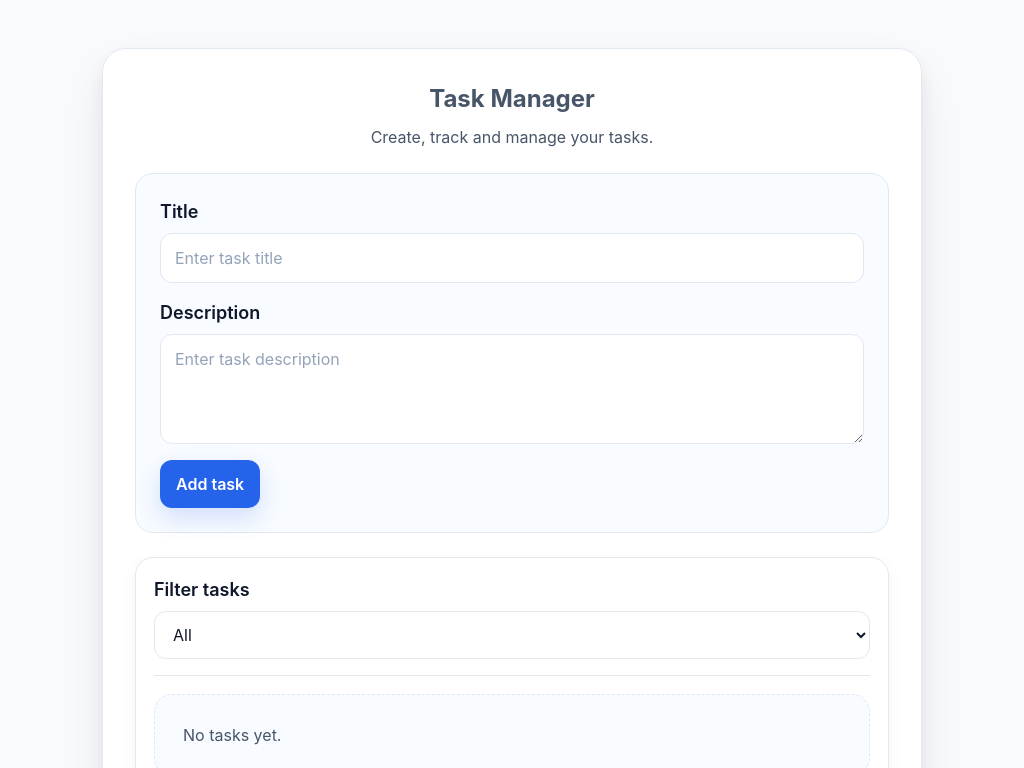
Test: HomePage › handleAdd › ska visa API-felmeddelande om skapande misslyckas
The width and height of the screenshot is (1024, 768).
In the field labelled "Title": (512, 258) [160,233,864,283], type "New task"
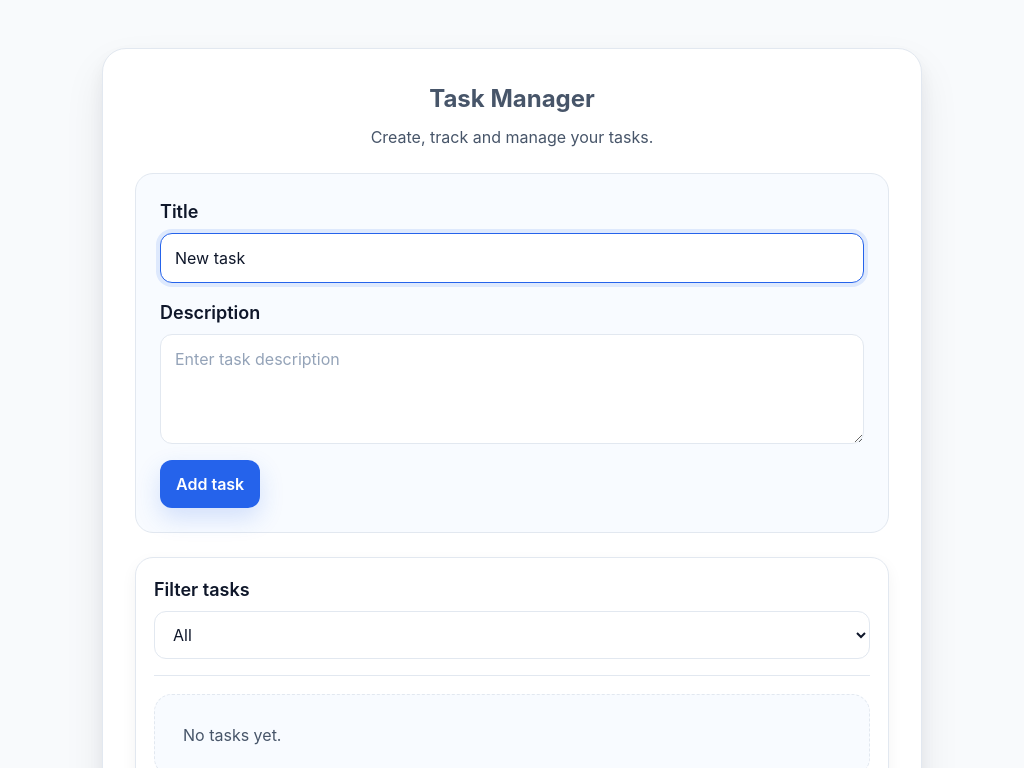
In the text box labelled "Description": (512, 389) [160,334,864,444], type "New description"
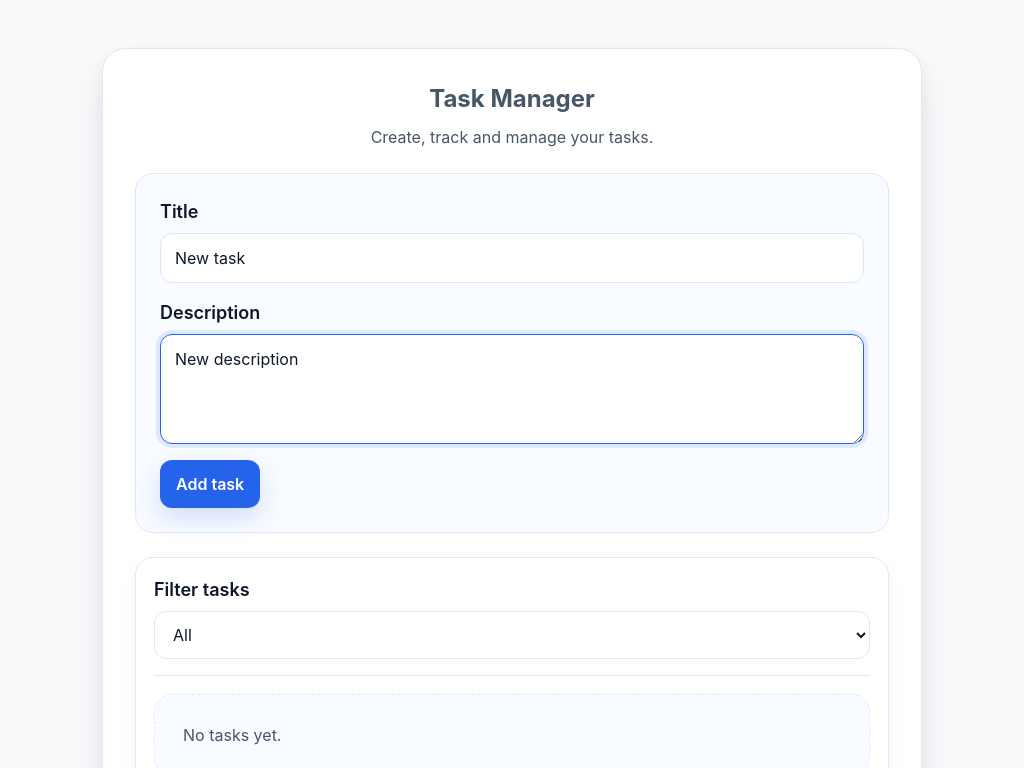
Click the button "Add task": (210, 484) [160,460,260,508]
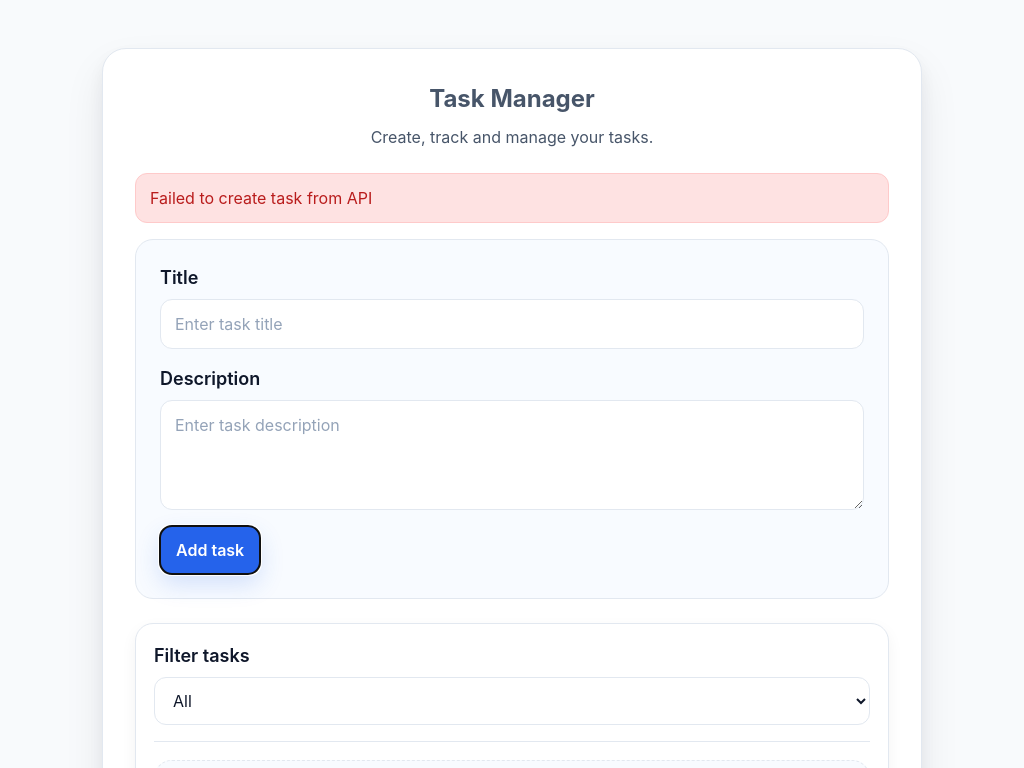
Expected: the text "Failed to create task from API" is shown, [135,173,889,223]
